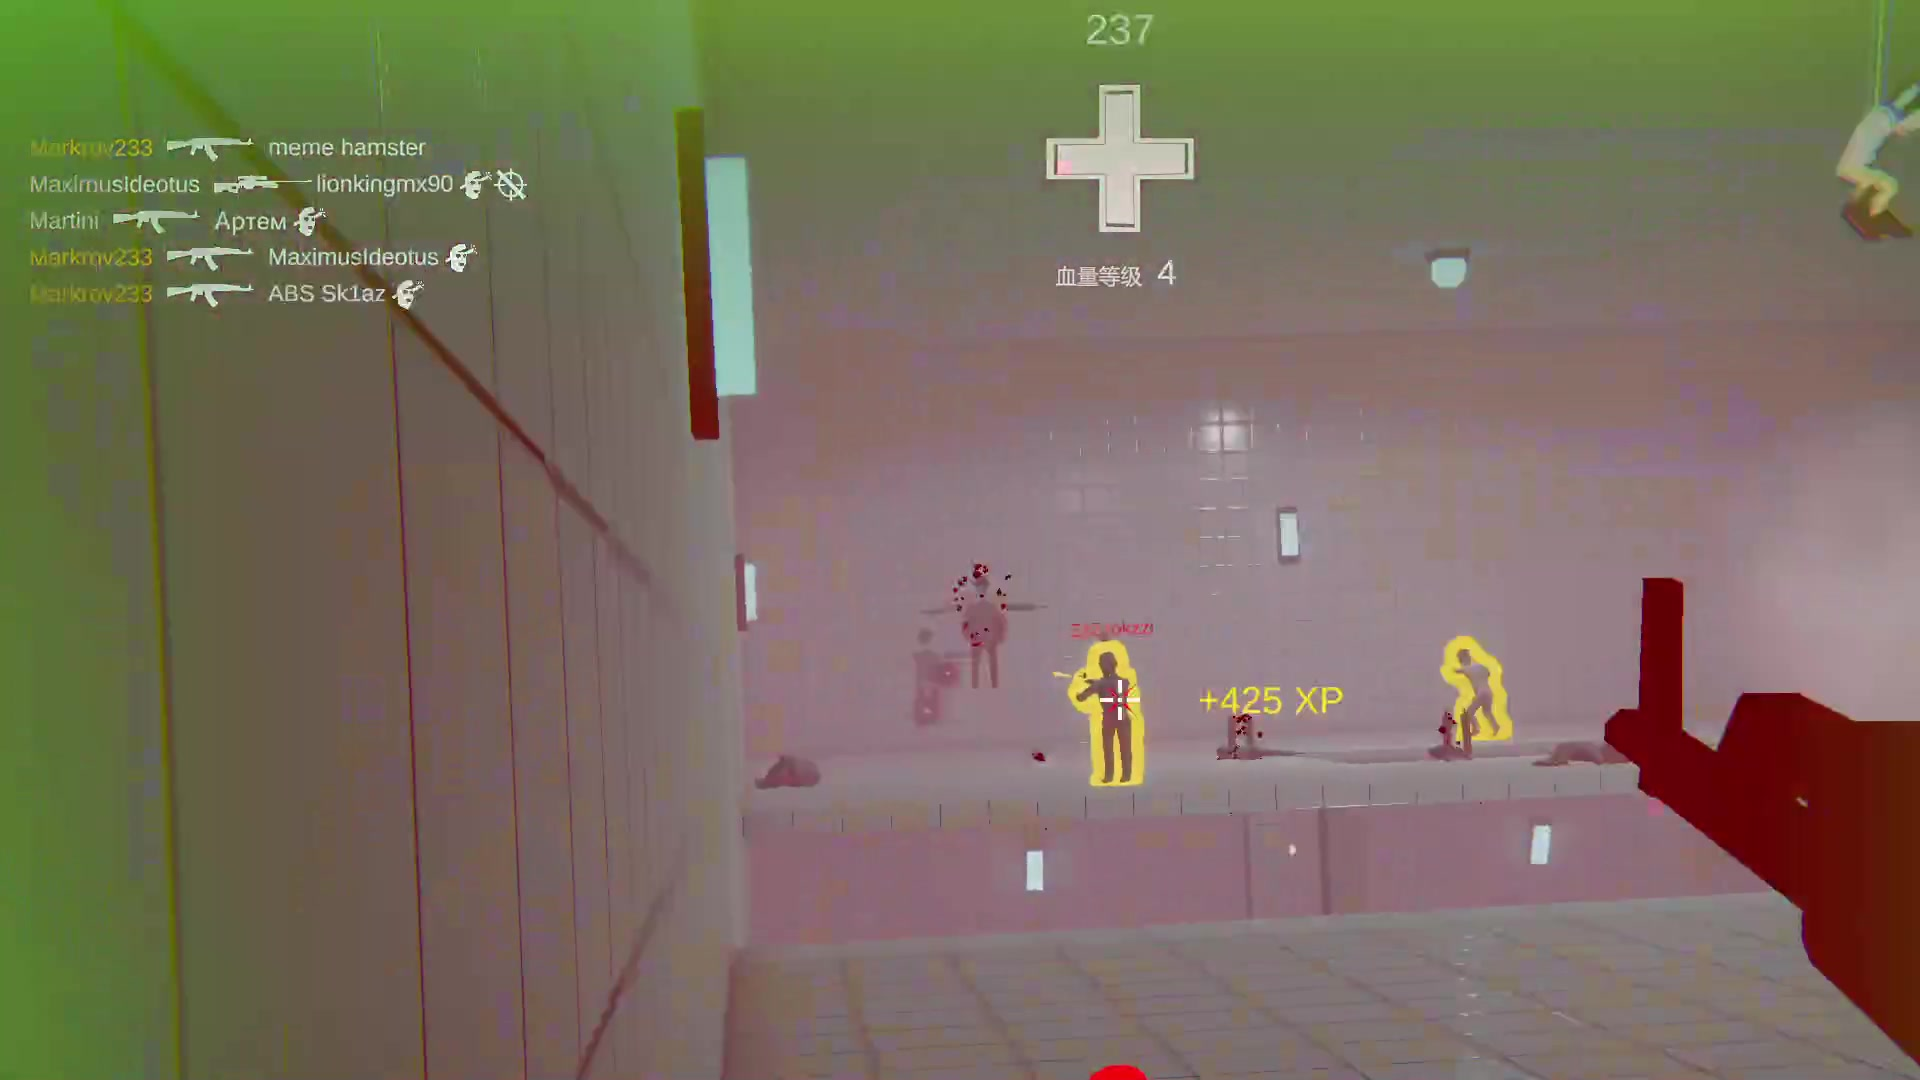human: (1435, 621, 1511, 742), (1086, 653, 1144, 789)
